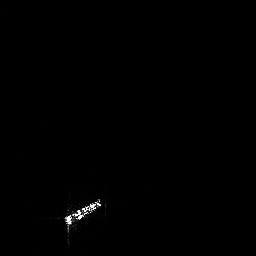ship: (60, 194, 106, 243)
